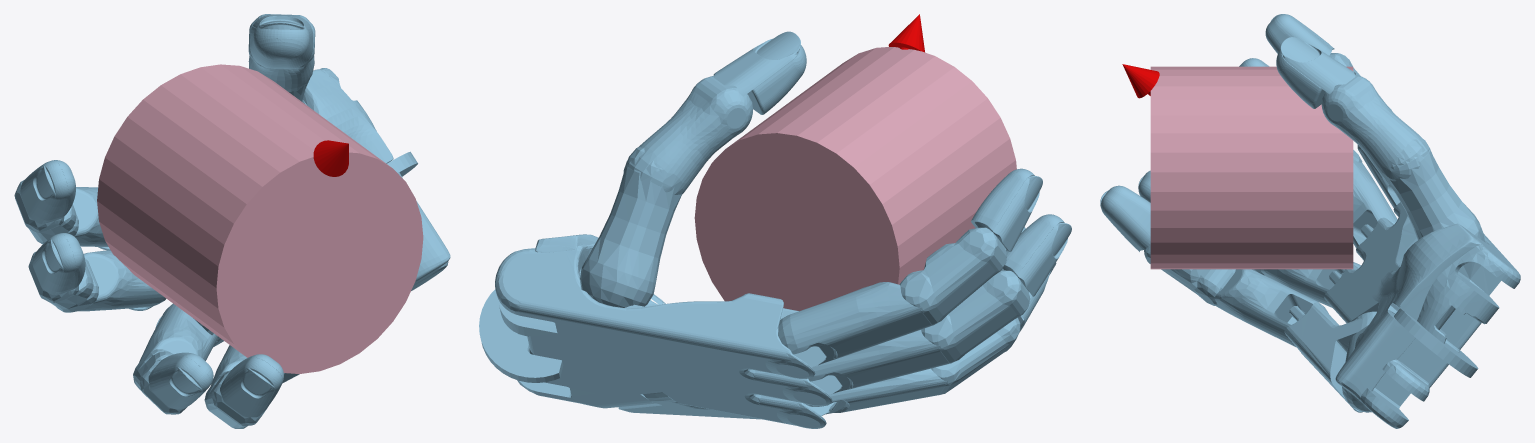
The picture shows the model from 3 angles, left to right: view 1: azimuth 30°, elevation 25°; view 2: azimuth 150°, elevation 25°; view 3: azimuth 270°, elevation 25°; orthographic projection. The views are drawn at different scales.
Parts seen in each view (by area): view 1: cylinder_medium.stl, world; view 2: world, cylinder_medium.stl; view 3: world, cylinder_medium.stl.
Boxes of the visible parts, x1,y1,x2,y2 form: cylinder_medium.stl: [97, 64, 423, 373]; world: [14, 14, 450, 428]; world: [479, 14, 1071, 428]; cylinder_medium.stl: [694, 47, 1016, 311]; world: [1100, 14, 1520, 428]; cylinder_medium.stl: [1150, 66, 1353, 269].
Bounding box in the file's own units: 0.1838 × 0.1402 × 0.166.
